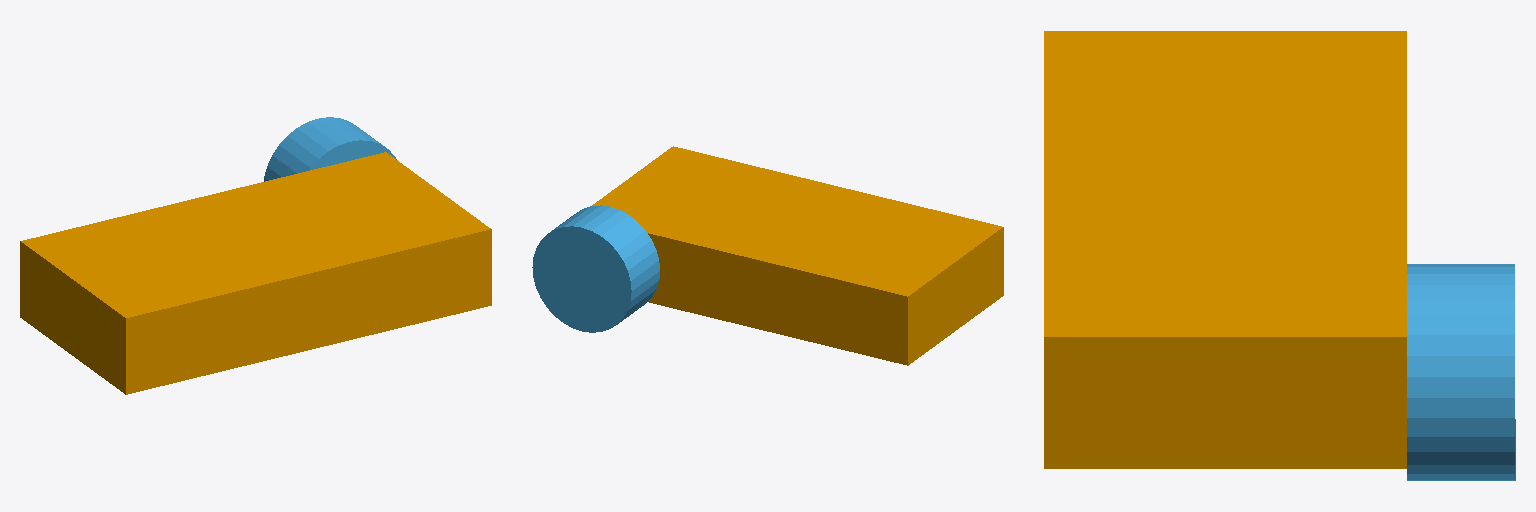
The robot description file, URDF, robot "my_robot":
<?xml version="1.0"?>
<robot name="my_robot">
	<link name="base_link">
		<visual>
			<geometry>
				<box size="1.0 0.5 0.2"/>
			</geometry>
		</visual>
	</link>	
    <link name="left_wheel">
		<visual>
            <origin xyz="0.0 0.075 0.0" rpy="-1.57 0.0 0.0"/>
			<geometry>
				<cylinder radius="0.15" length="0.15"/> 
			</geometry>
		</visual>
	</link>	
    <joint name="left_wheel_joint" type="continuous">
        <origin xyz="0.4 0.25 0.0" rpy="0.0 0.0 0.0"/>
        <parent link="base_link"/>
        <child link="left_wheel"/>
        <axis xyz="0.0 1 0.0"/>
    </joint>
</robot>

--- What the picture shows (computed from the rendered views, not written in the file) ---
3 views of the same robot in one strip: view 1: azimuth 30°, elevation 25°; view 2: azimuth 150°, elevation 25°; view 3: azimuth 270°, elevation 25° (orthographic).
Model my_robot with 2 links and 1 joints (1 continuous), rooted at base_link, posed every joint at zero.
Links seen in each view (by area): view 1: base_link, left_wheel; view 2: base_link, left_wheel; view 3: base_link, left_wheel.
Boxes of the visible links, box(x1,y1,x2,y2) form: base_link: box(20, 152, 491, 394); left_wheel: box(264, 117, 396, 181); base_link: box(592, 146, 1003, 365); left_wheel: box(532, 205, 659, 332); base_link: box(1044, 31, 1406, 468); left_wheel: box(1407, 264, 1515, 480).
Size in the robot's own frame: 1.05 by 0.6501 by 0.3001 metres.
Geometry: primitives only (box / cylinder / sphere), no mesh files.